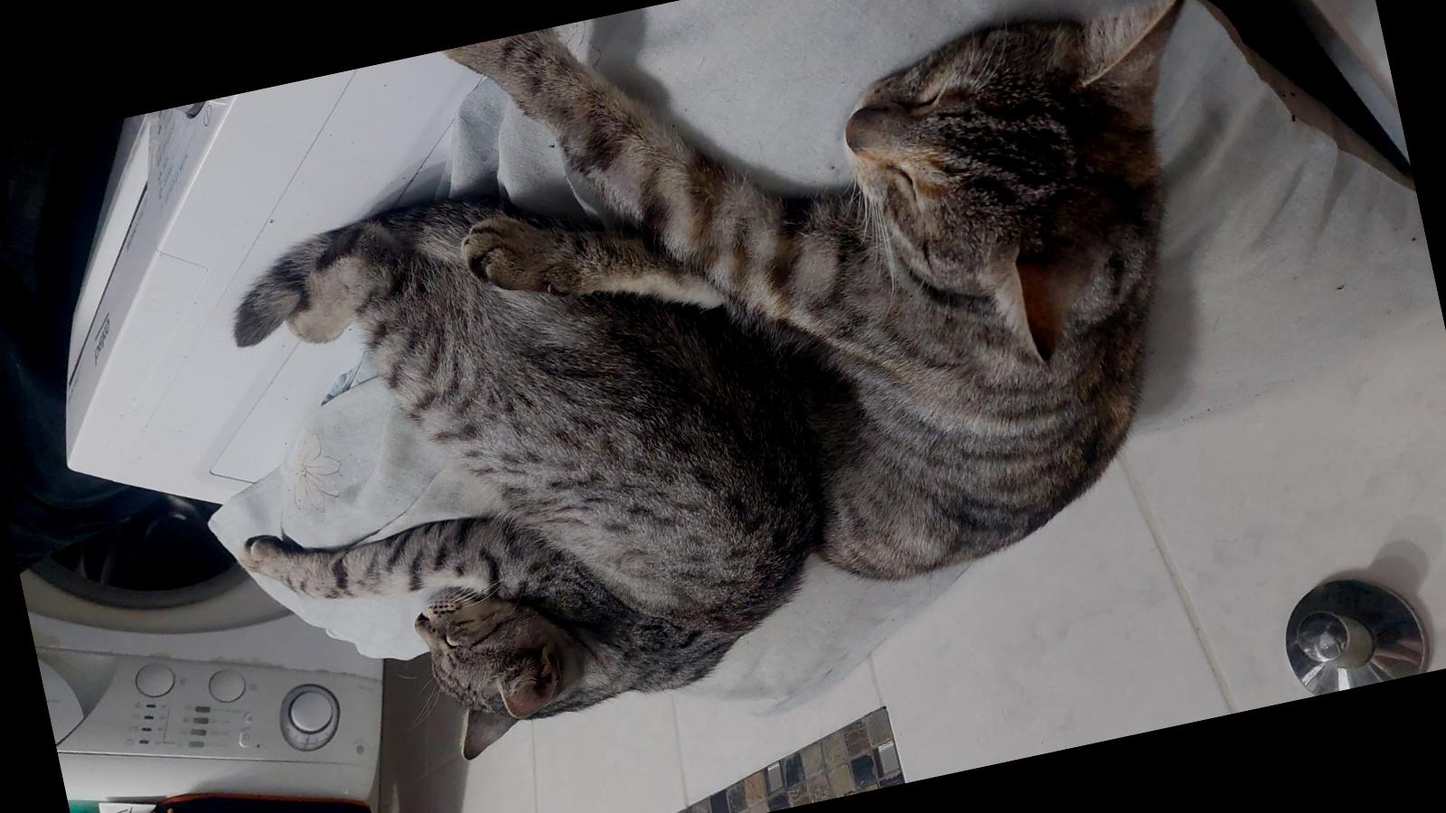macka: (422, 0, 1303, 655), (174, 135, 853, 803)
